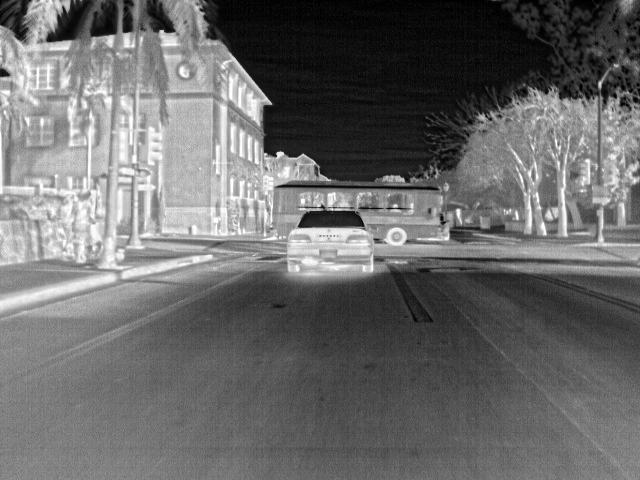car: (286, 210, 373, 274)
person: (74, 188, 93, 262)
